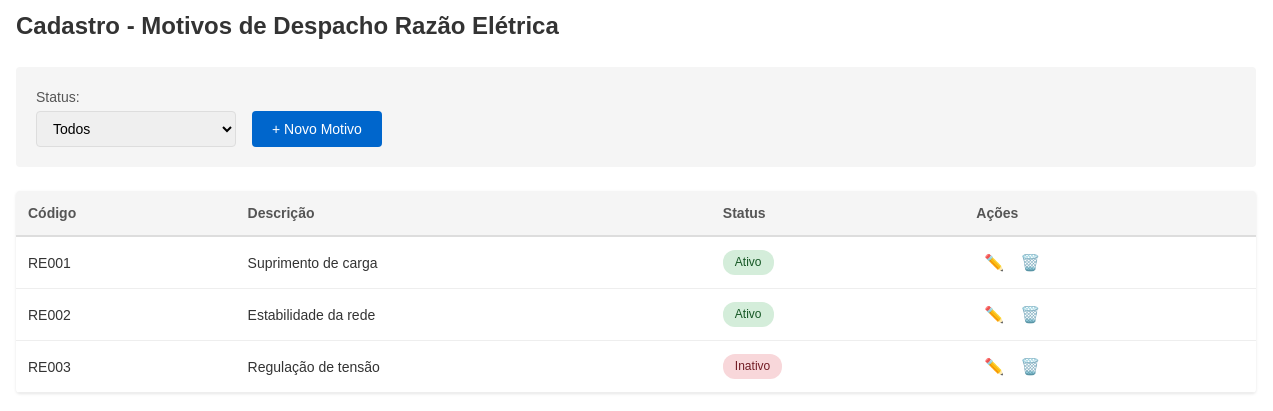
Test case: ElectricalDispatchReason Component › Tabela de Motivos › deve filtrar motivos por status ativo
Expected: the text "RE001" is shown, [16,236,236,289]
Select "Inativo" in the dropdown with test id "filter-ativo" at (136, 129), box [36,111,236,147]
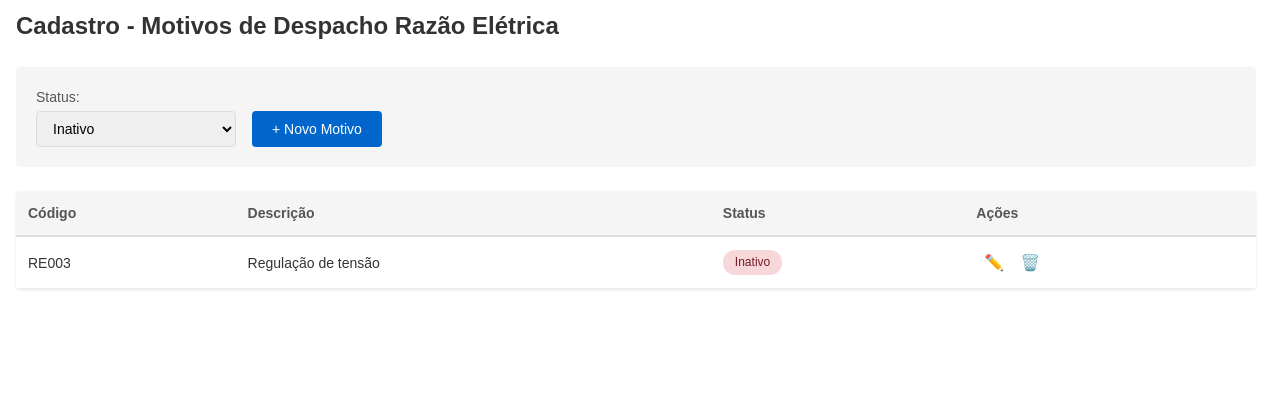
Expected: the text "RE003" is shown, [16,236,236,289]
Now the text "RE001" is gone
